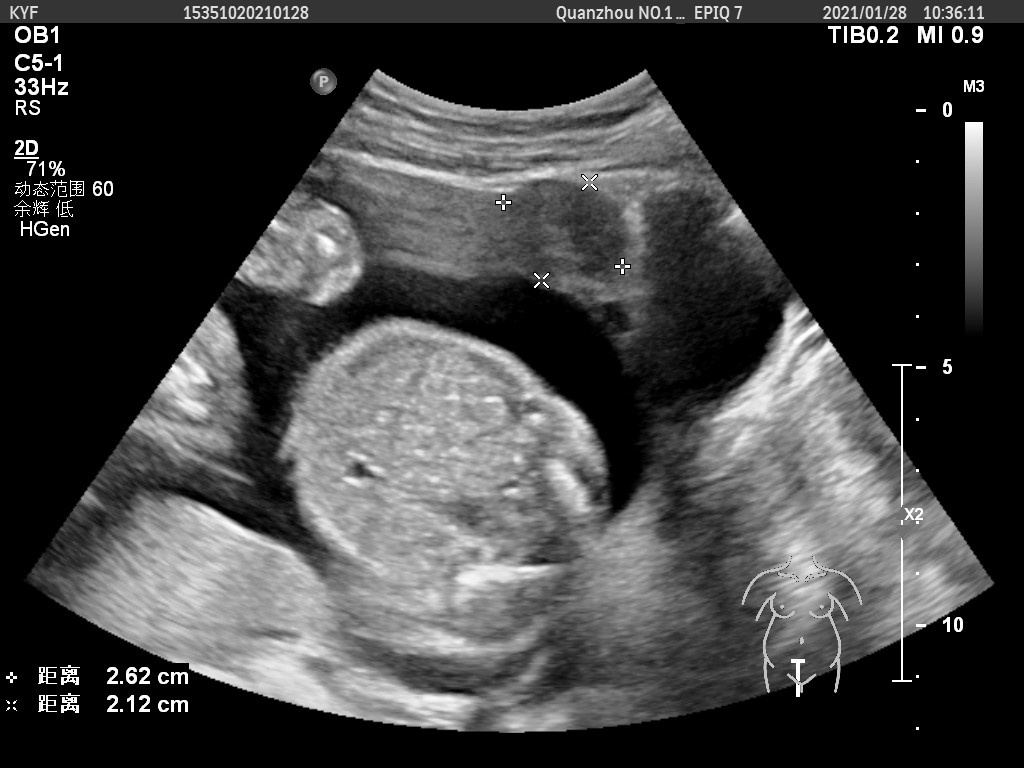肌瘤: (516, 186, 624, 277)
